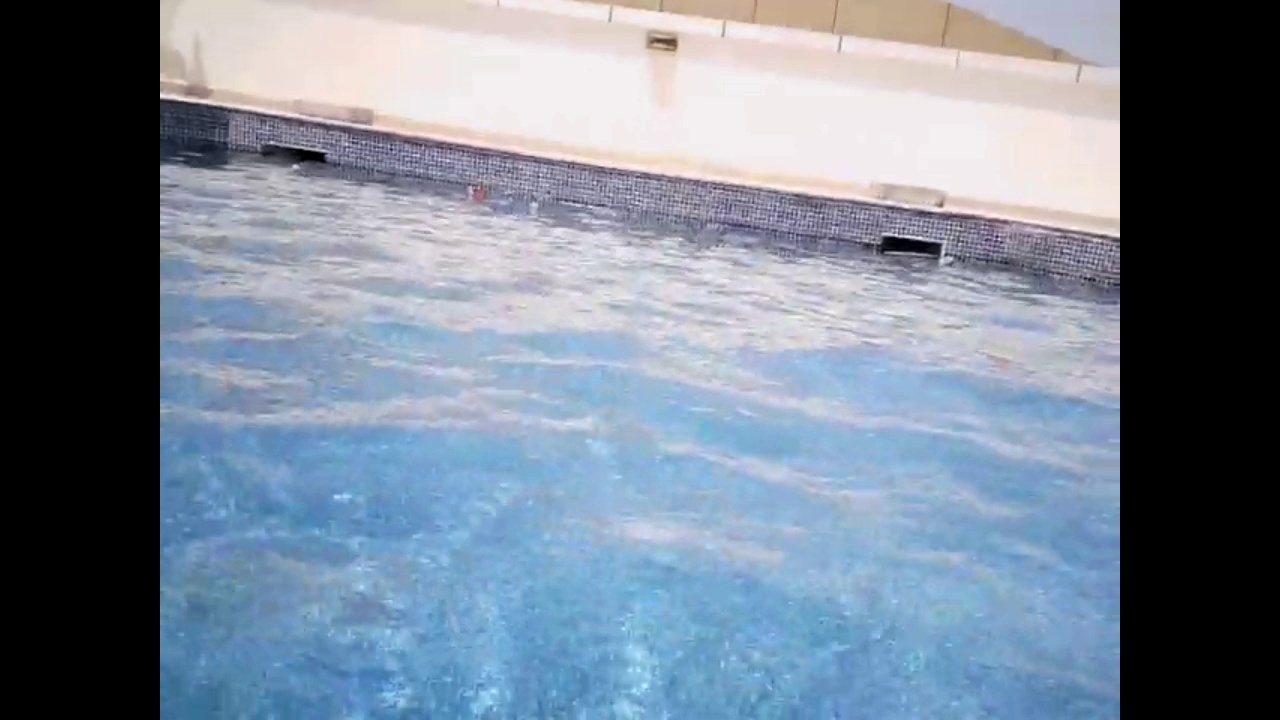debris: (463, 180, 494, 202), (935, 253, 956, 271), (289, 162, 306, 175), (527, 201, 541, 212)
